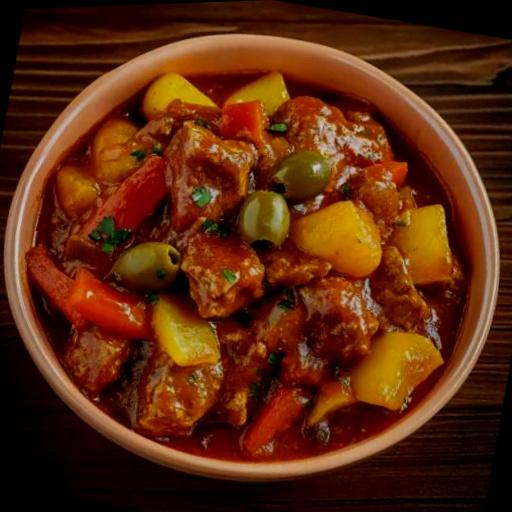pork caldereta: (43, 69, 457, 464)
